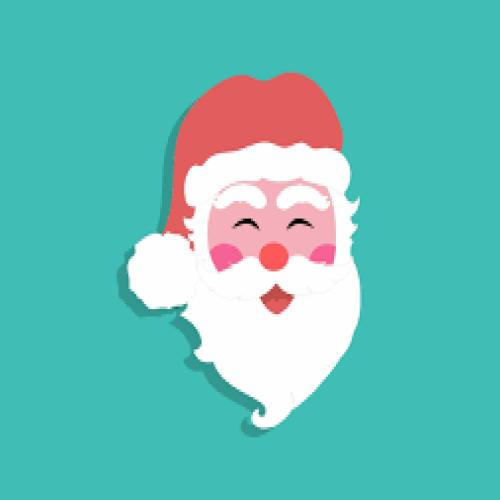Santa: (122, 70, 364, 432)
